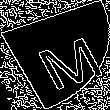M_NW: (14, 23, 96, 87)
